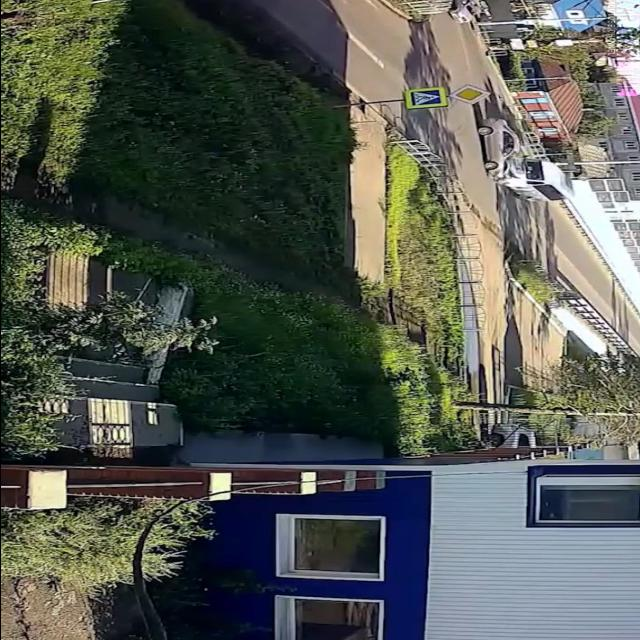accident: (474, 111, 578, 205)
